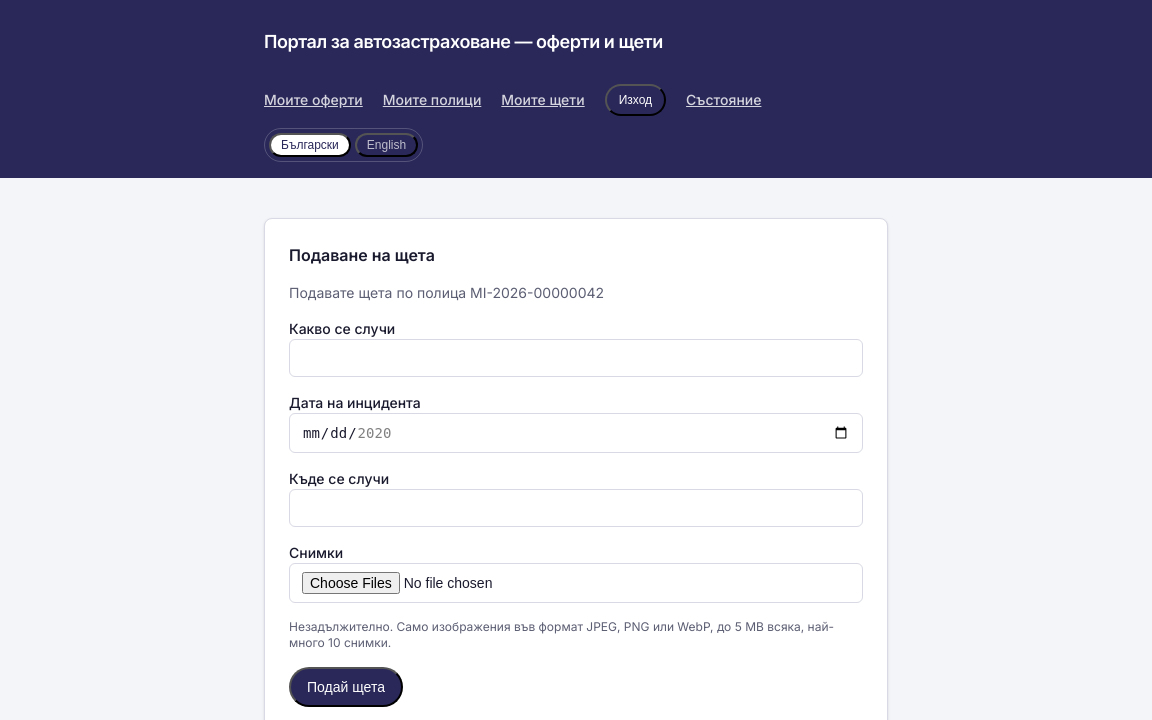
FnolForm › shows the inline success confirmation with the claim number and a link back to the policy
The image size is (1152, 720).
Type "Rear bumper damage in a parking-lot collision." into the field labelled "Какво се случи". click: (576, 358)
box: [289,339,863,377]
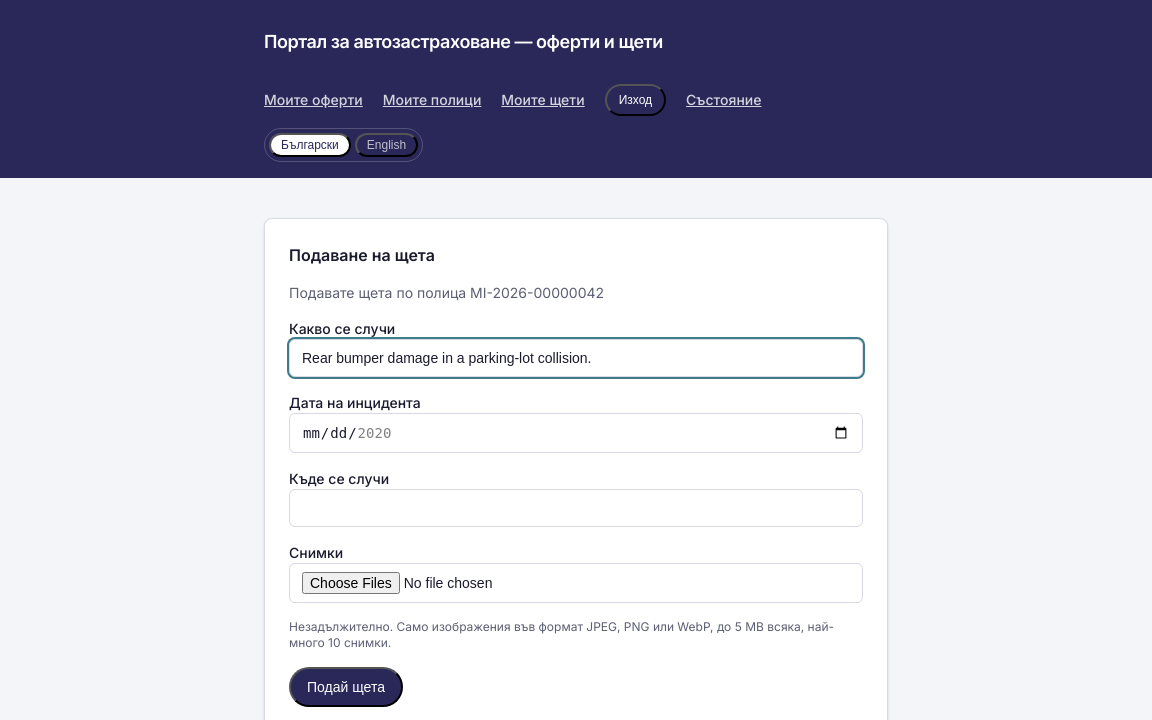
Type "2020-06-01" into the date field labelled "Дата на инцидента". click: (576, 433)
box: [289,413,863,453]
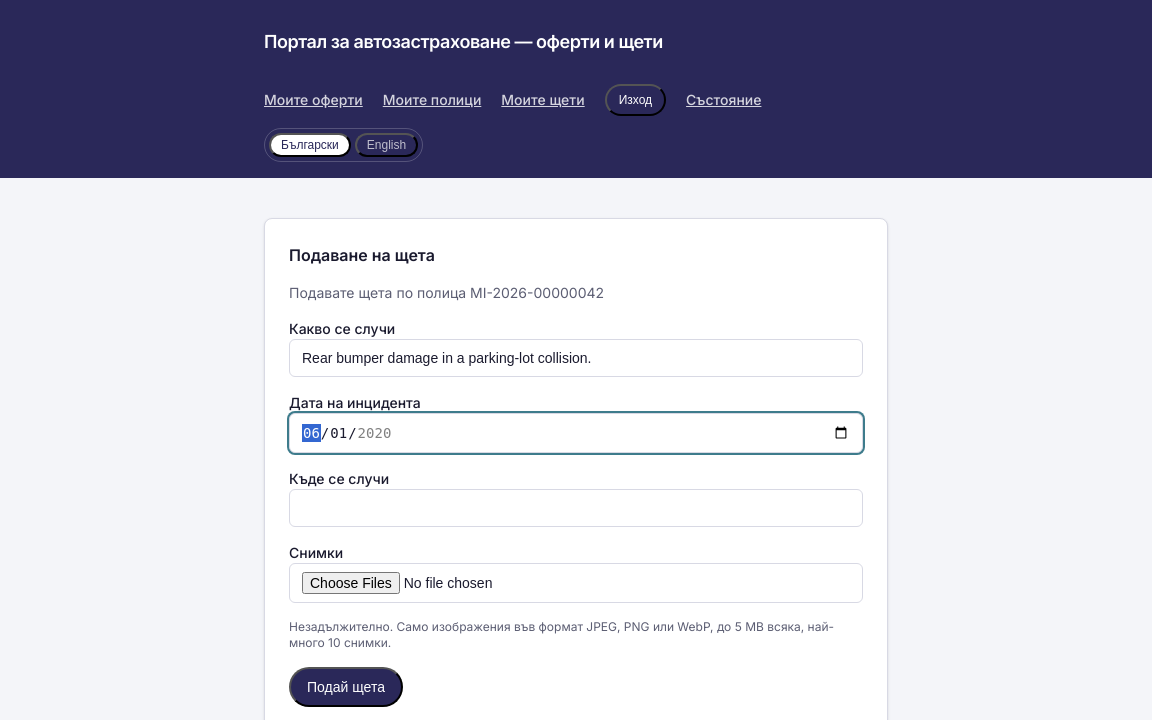
Type "Sofia, near NDK" into the field labelled "Къде се случи". click: (576, 508)
box: [289,489,863,527]
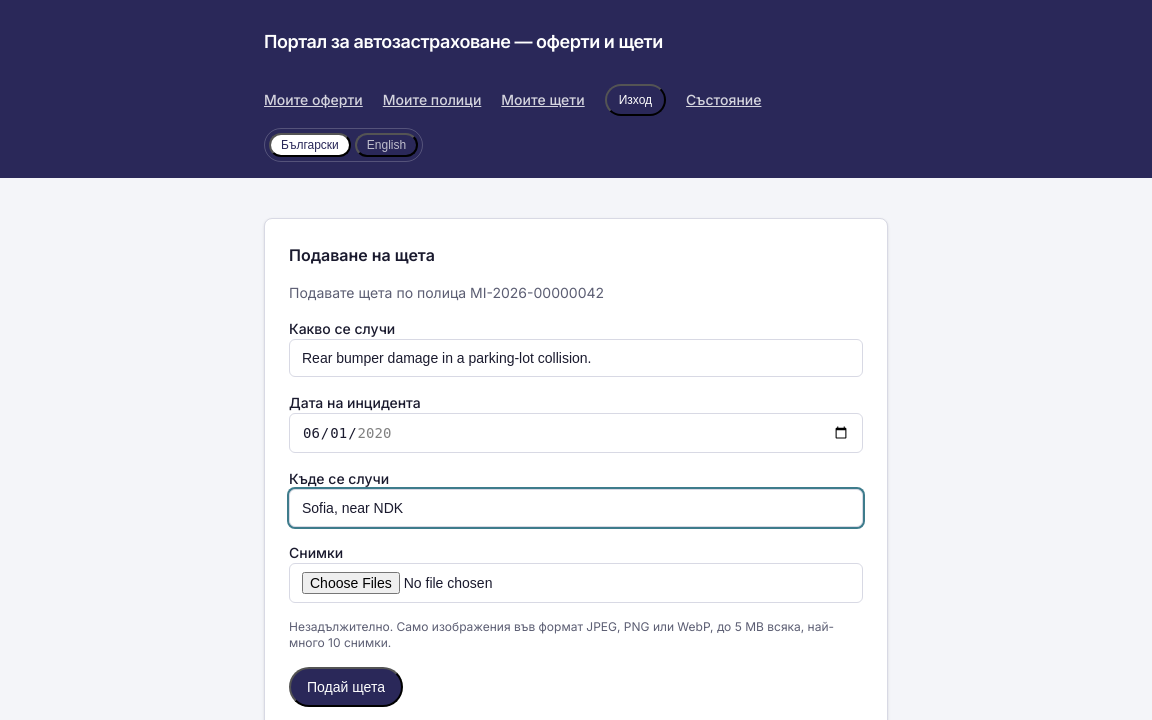
Click the button "Подай щета". click: (346, 687)
box: [289,667,403,707]
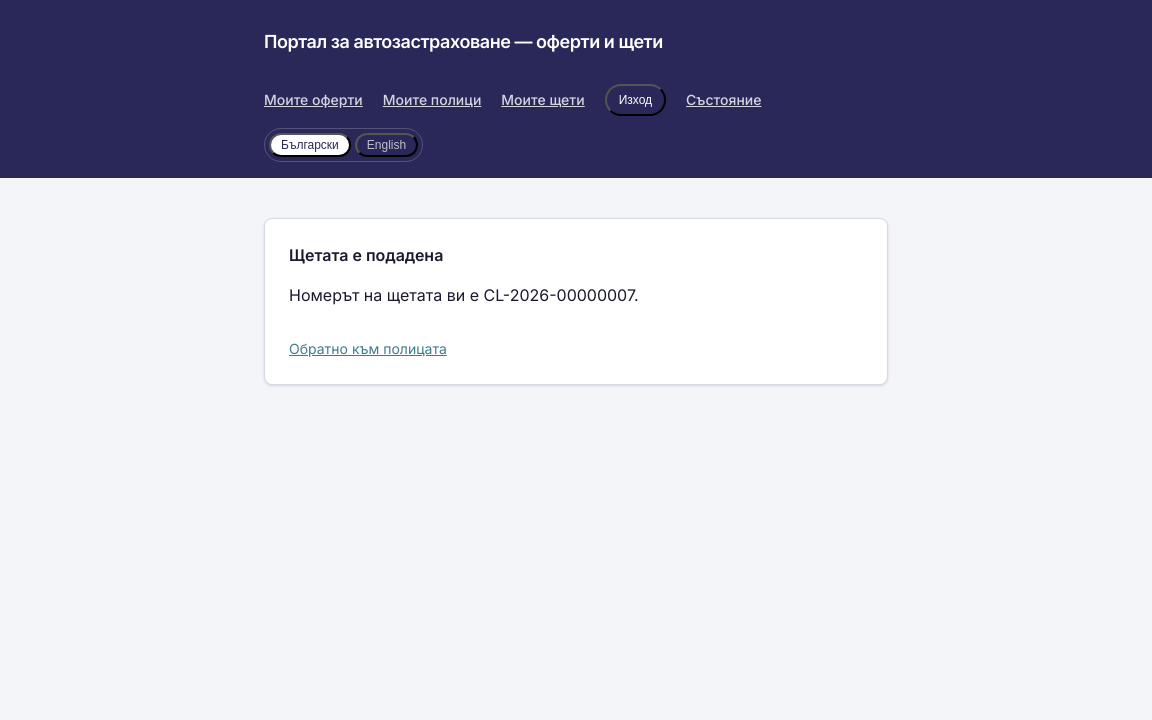
Expected: the element with test id "fnol-success" is shown, [264,218,888,385]
Expected: the text with test id "fnol-success-claim-number" shows "CL-2026-00000007", [289,285,638,305]
